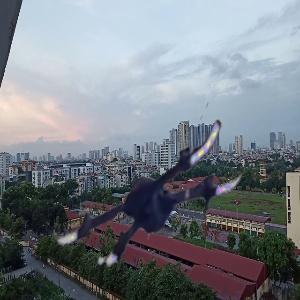drone: (46, 86, 245, 285)
